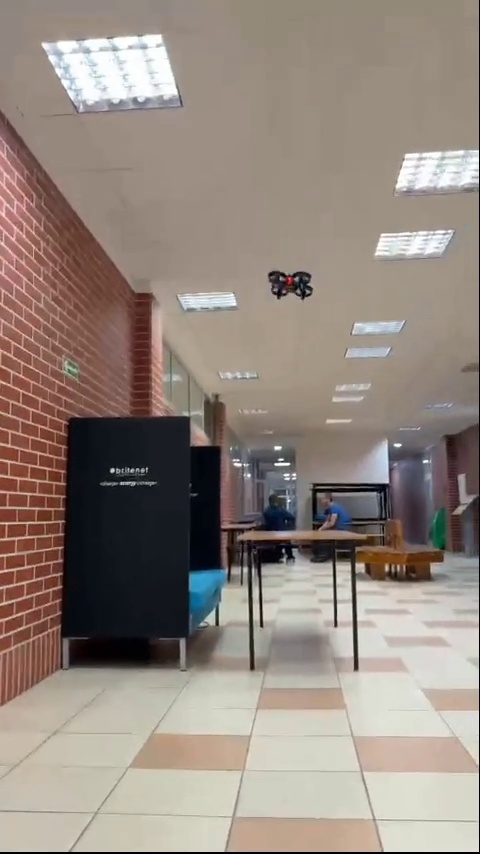drone: (267, 272, 315, 299)
no vest: (312, 487, 349, 535), (259, 491, 295, 530)
